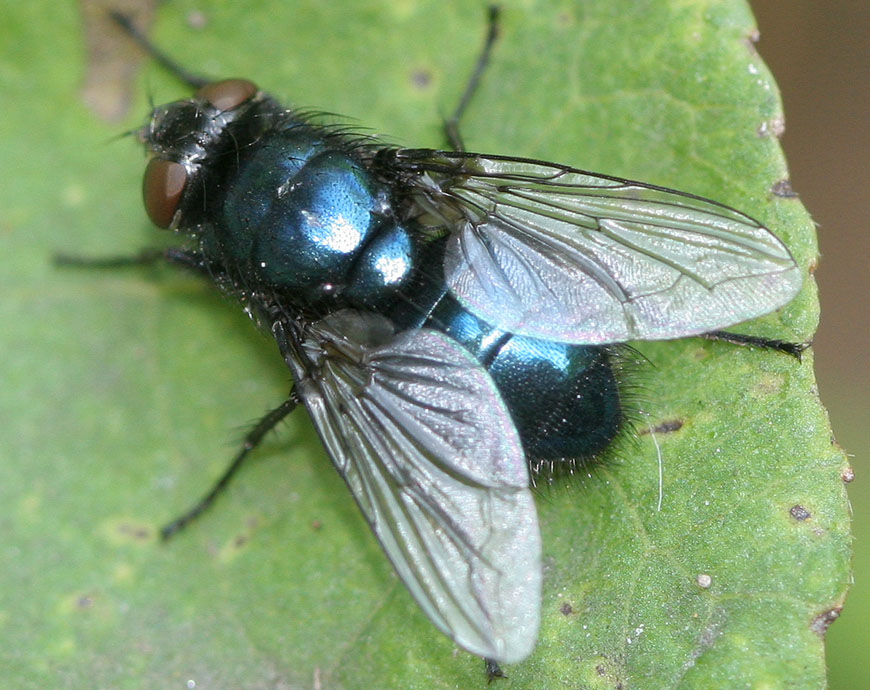green bottles fly: (82, 48, 809, 686)
